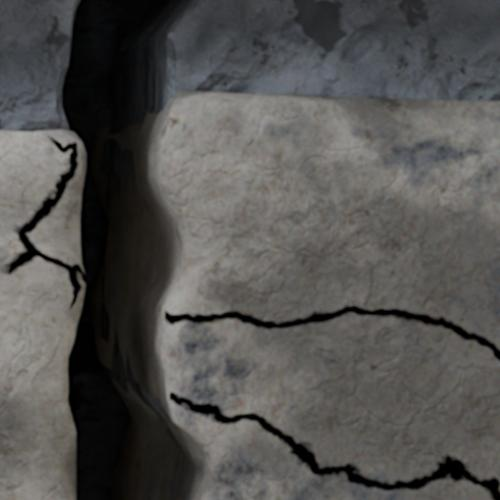broken_brick: (159, 91, 499, 347), (162, 314, 499, 483), (170, 401, 491, 499), (0, 129, 84, 499)
crack: (2, 0, 499, 499)
